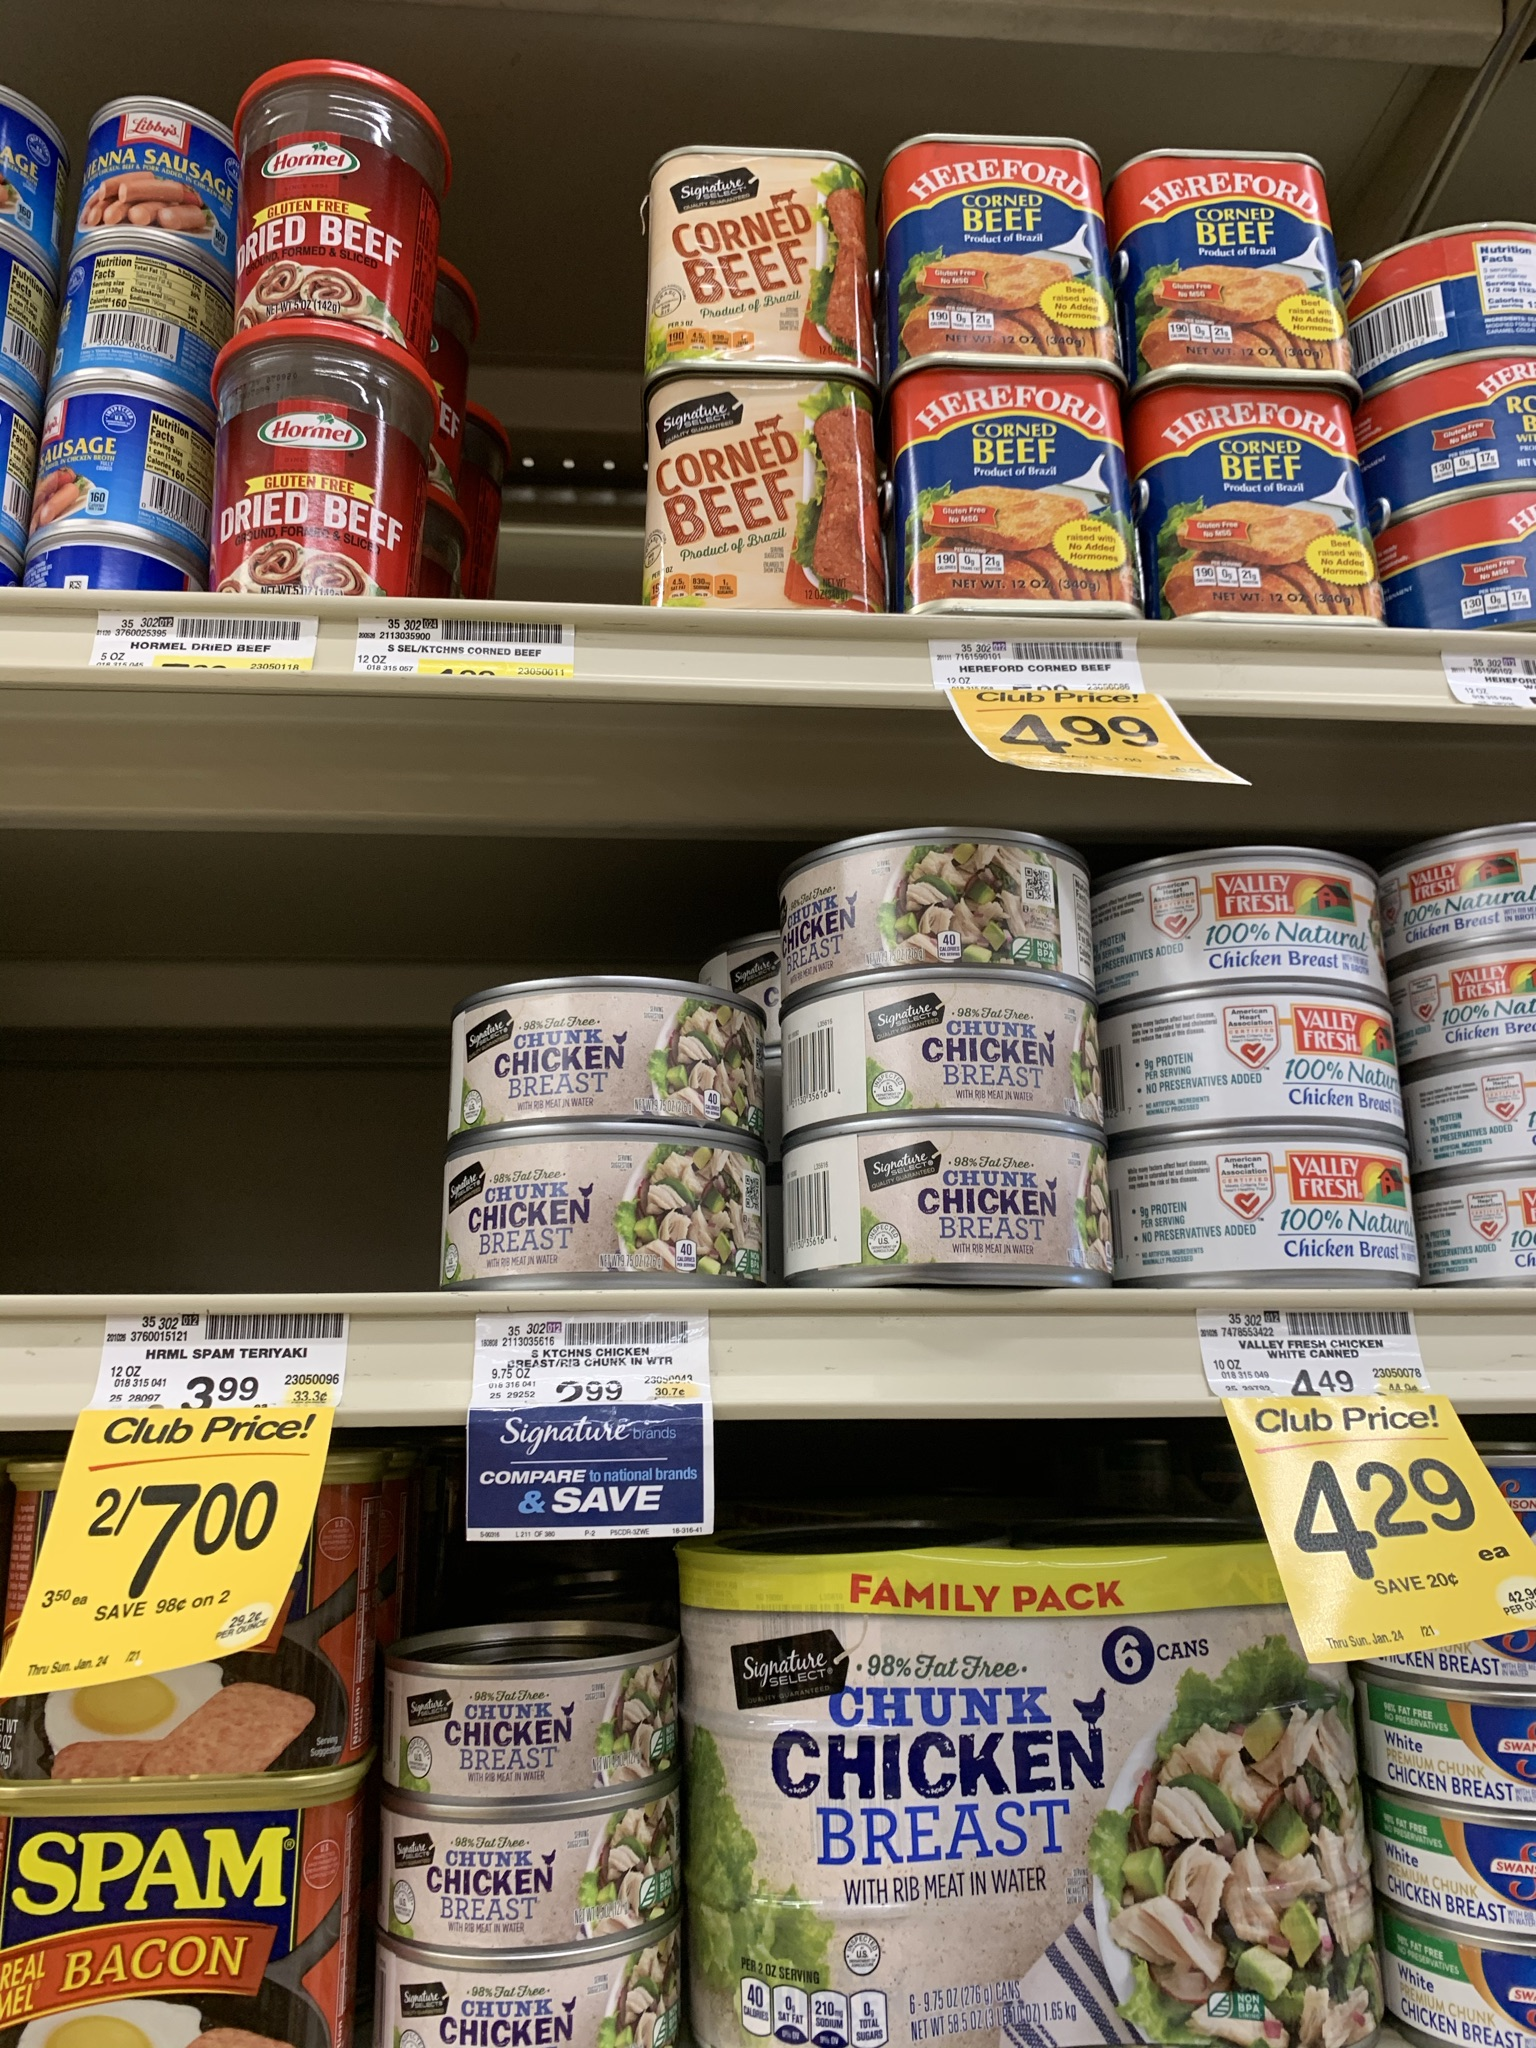can: (2, 1808, 340, 2048), (905, 385, 1128, 614), (1163, 400, 1375, 621), (653, 164, 866, 364), (899, 156, 1105, 356), (786, 1151, 1107, 1276), (679, 390, 858, 606), (1137, 164, 1331, 361), (463, 997, 753, 1122), (463, 1159, 757, 1279), (1142, 1155, 1413, 1280), (399, 1666, 674, 1785), (1125, 1008, 1394, 1126), (808, 864, 1084, 972), (1118, 876, 1376, 987), (407, 1825, 673, 1930), (1359, 1684, 1536, 1800), (48, 406, 192, 542), (90, 123, 223, 239), (1384, 1821, 1528, 1927), (1394, 1946, 1536, 2042), (71, 282, 192, 376)
